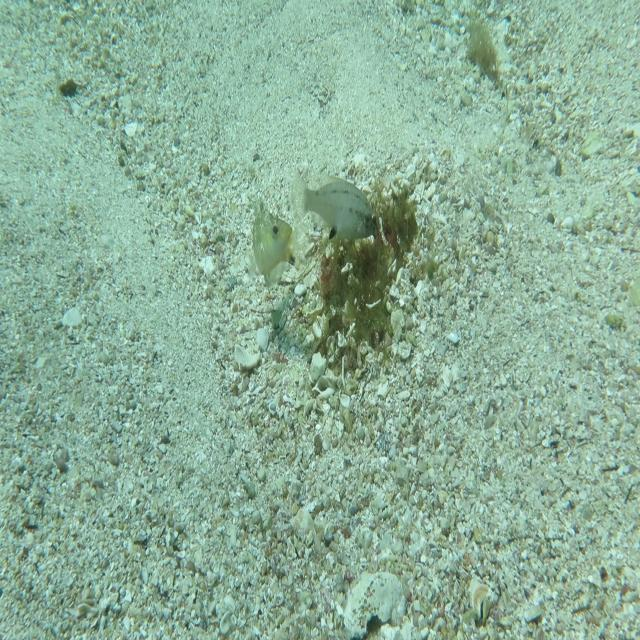BEND: (244, 191, 311, 294)
female: (288, 168, 382, 244)
nest: (306, 162, 431, 368)
